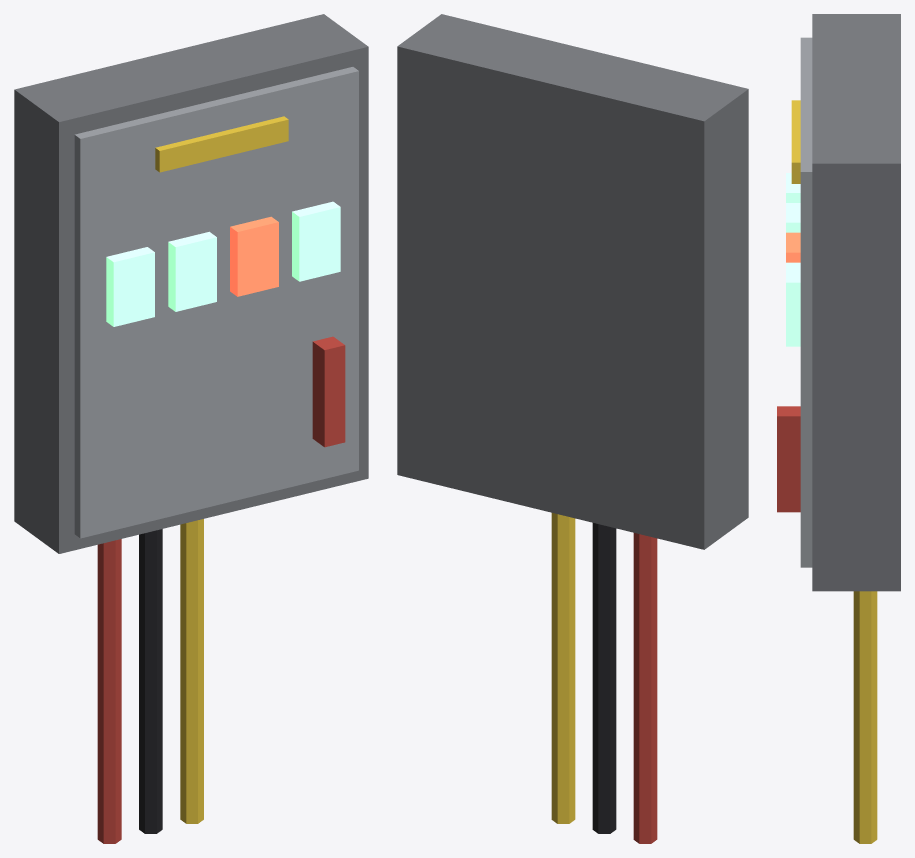
File: SM_Fuse_Box.glb
3 renders of one model, left to right at view 1: azimuth 30°, elevation 25°; view 2: azimuth 150°, elevation 25°; view 3: azimuth 270°, elevation 25°, orthographic.
Visible parts, largest first — view 1: SM_Fuse_Box; view 2: SM_Fuse_Box; view 3: SM_Fuse_Box.
Boxes of the visible parts, x1,y1,x2,y2 form: SM_Fuse_Box: (14,14,368,843); SM_Fuse_Box: (397,14,748,843); SM_Fuse_Box: (777,14,900,843).
Bounding box in the file's own units: 0.6 × 1.4 × 0.21.
